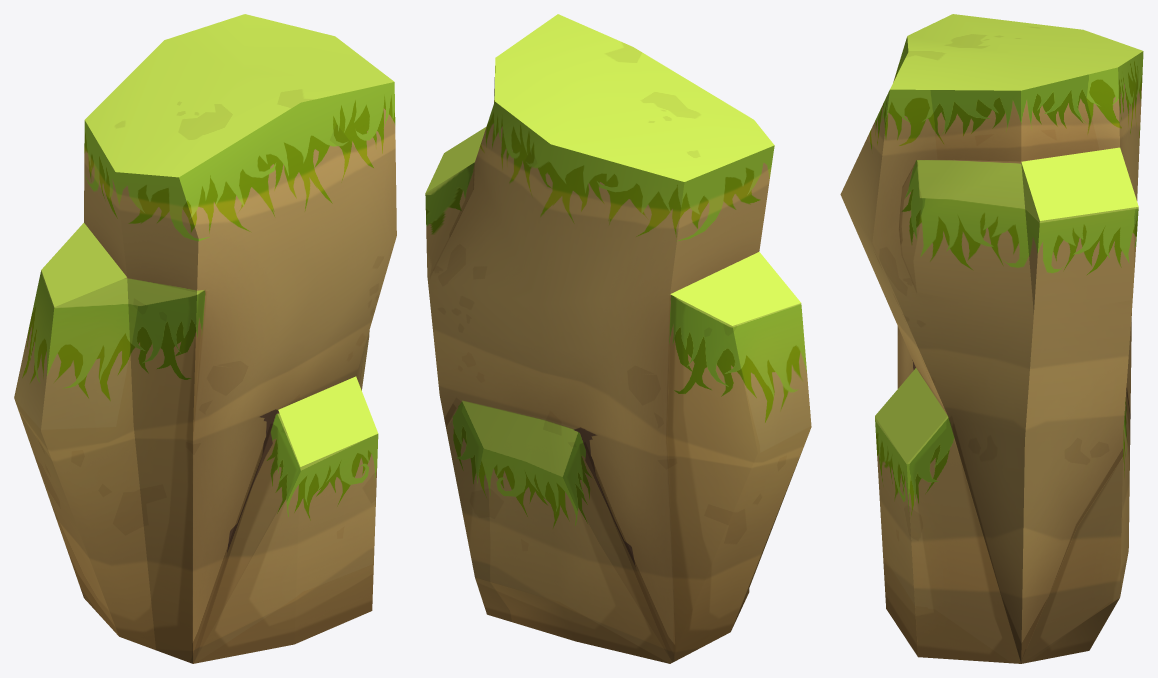
File: F_W_O_rock_004.fbx
The picture shows the model from 3 angles, left to right: view 1: azimuth 30°, elevation 25°; view 2: azimuth 150°, elevation 25°; view 3: azimuth 270°, elevation 25°; orthographic projection. The views are drawn at different scales.
Parts seen in each view (by area): view 1: F_W_O_rock_004; view 2: F_W_O_rock_004; view 3: F_W_O_rock_004.
Boxes of the visible parts, <box> form: F_W_O_rock_004: <box>14,14,396,663</box>; F_W_O_rock_004: <box>425,14,811,663</box>; F_W_O_rock_004: <box>840,14,1143,663</box>.
Bounding box in the file's own units: 7.53 × 10.96 × 5.26.
